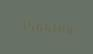eight: (65, 21, 72, 36), (57, 21, 64, 35)
five: (25, 18, 32, 32)
one: (49, 20, 56, 34)
seven: (17, 17, 24, 32)
six: (33, 18, 40, 33), (41, 19, 48, 34)
